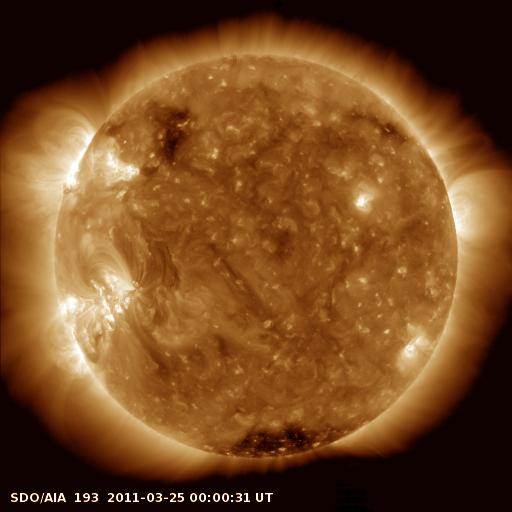coronal_hole: (218, 421, 342, 464), (144, 95, 199, 167)
